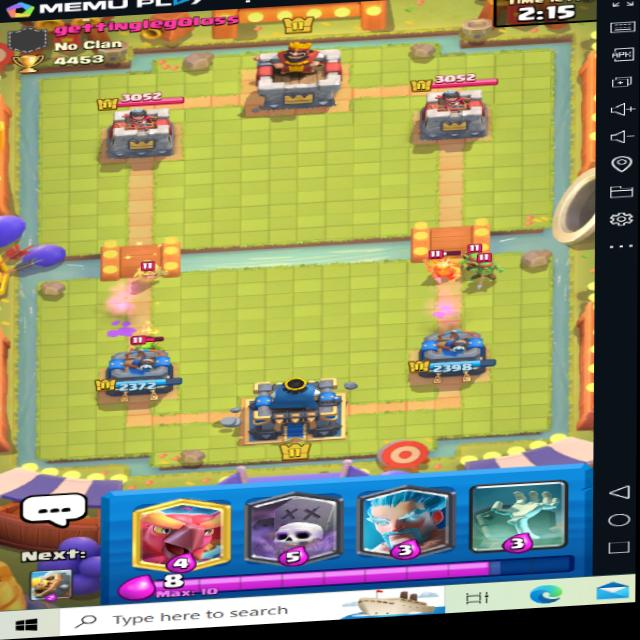goblin: (125, 332, 164, 363)
heal-spirit: (121, 249, 173, 289)
spear-goblin: (419, 253, 462, 283), (457, 241, 490, 274), (474, 257, 508, 283)
